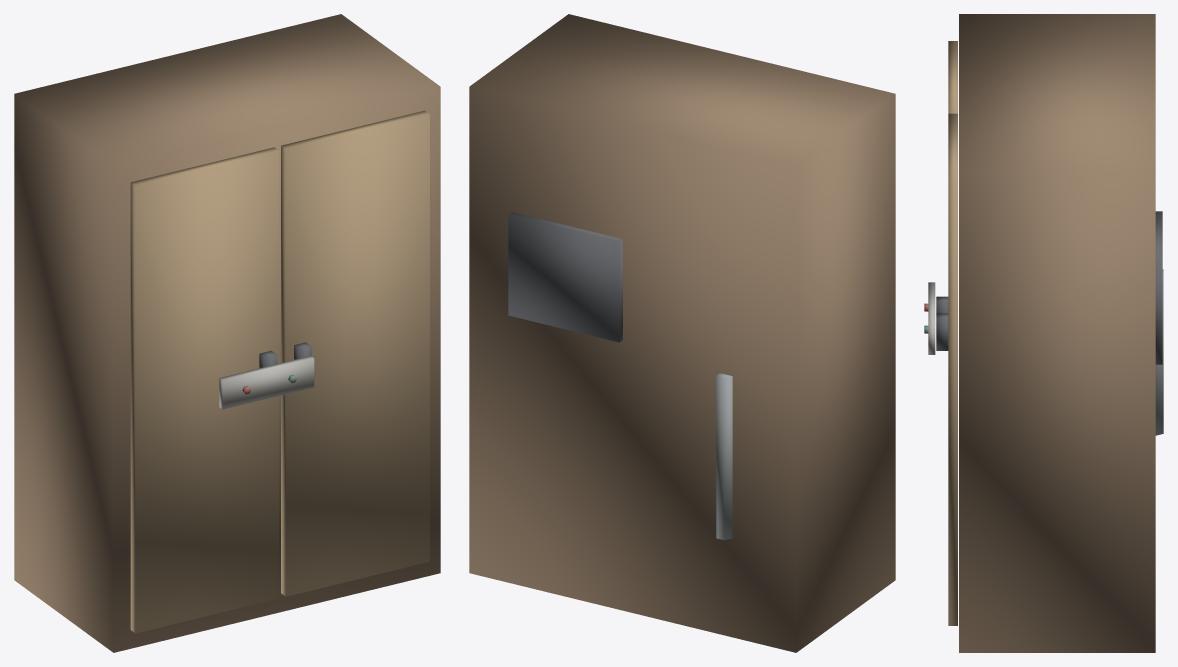
File: tv_stand__service.glb
The picture shows the model from 3 angles, left to right: view 1: azimuth 30°, elevation 25°; view 2: azimuth 150°, elevation 25°; view 3: azimuth 270°, elevation 25°; orthographic projection.
Visible parts, largest first — view 1: world; view 2: world; view 3: world.
Part boxes in pixels (left/top/right/bottom): world: left=14, top=14, right=440, bottom=652; world: left=469, top=14, right=895, bottom=652; world: left=924, top=14, right=1163, bottom=652.
Size of the model in its own units: 0.95 by 1.35 by 0.6091.
